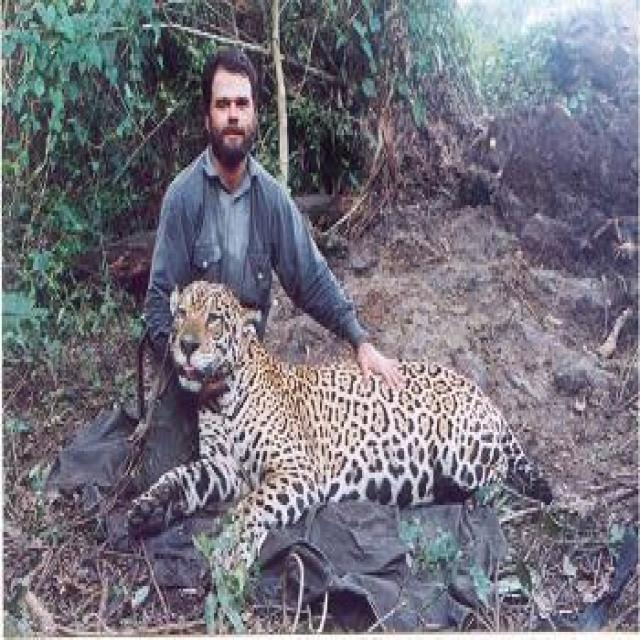Leopard: (121, 273, 550, 594)
